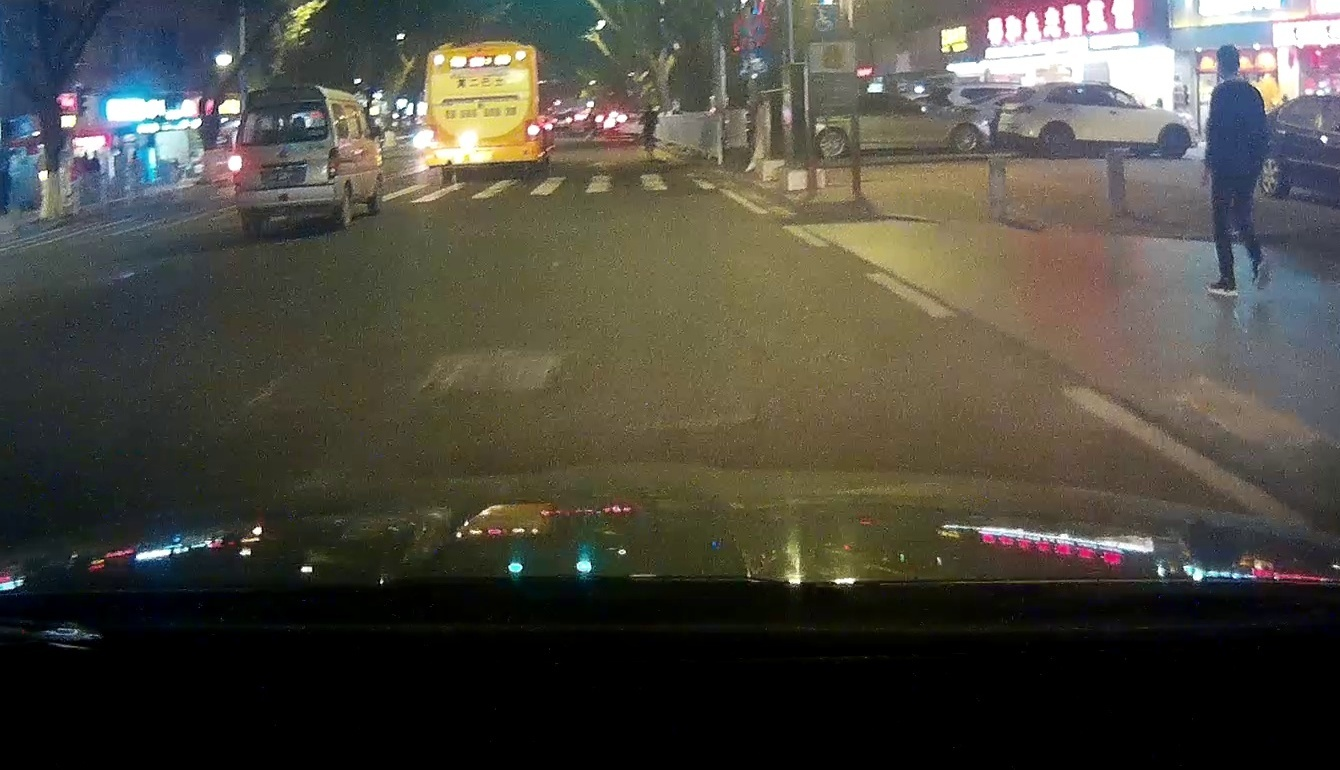L_light: (232, 154, 243, 192), (424, 123, 438, 150)
R_light: (326, 147, 340, 180), (525, 117, 540, 141)
T_light: (273, 101, 289, 106), (472, 52, 485, 56)
night-left: (229, 84, 343, 233)
night-no: (423, 41, 540, 183)
